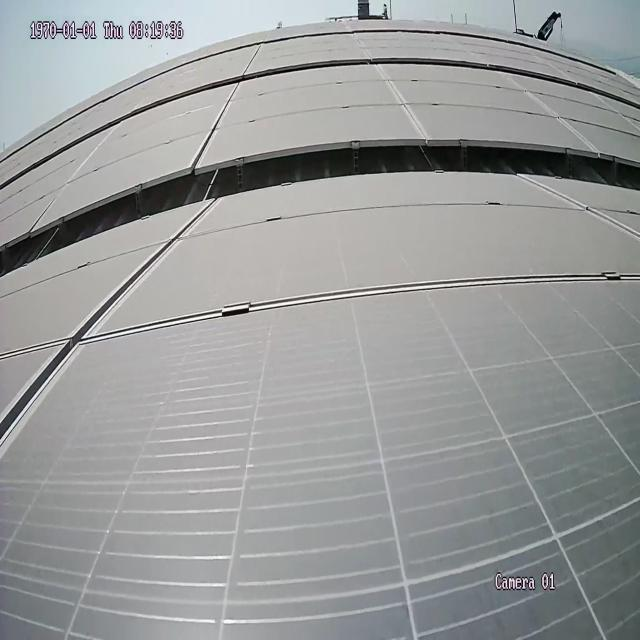interior panel: (0, 208, 639, 453), (522, 180, 640, 242), (508, 80, 599, 144), (377, 69, 430, 135), (194, 85, 240, 158)
outher panel: (0, 139, 640, 276)
